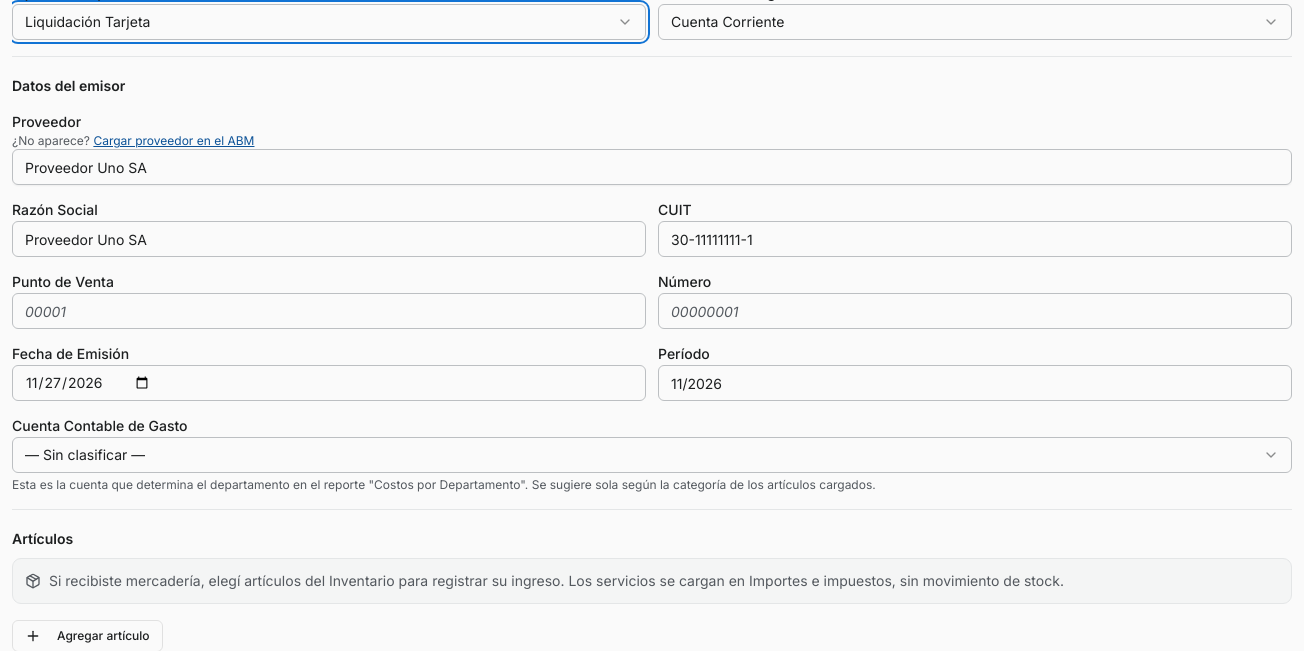
InvoiceDialog — unifiedLayout › la retención municipal sufrida en una Liquidación de Tarjeta se envía y suma al total
Earlier steps of the test are not shown.
Later steps or results of the test are not shown.
Type "00000124" into the field with test id "input-numero-comprobante". click: (975, 311)
box: x1=658 y1=293 x2=1292 y2=329
(page scrolled)
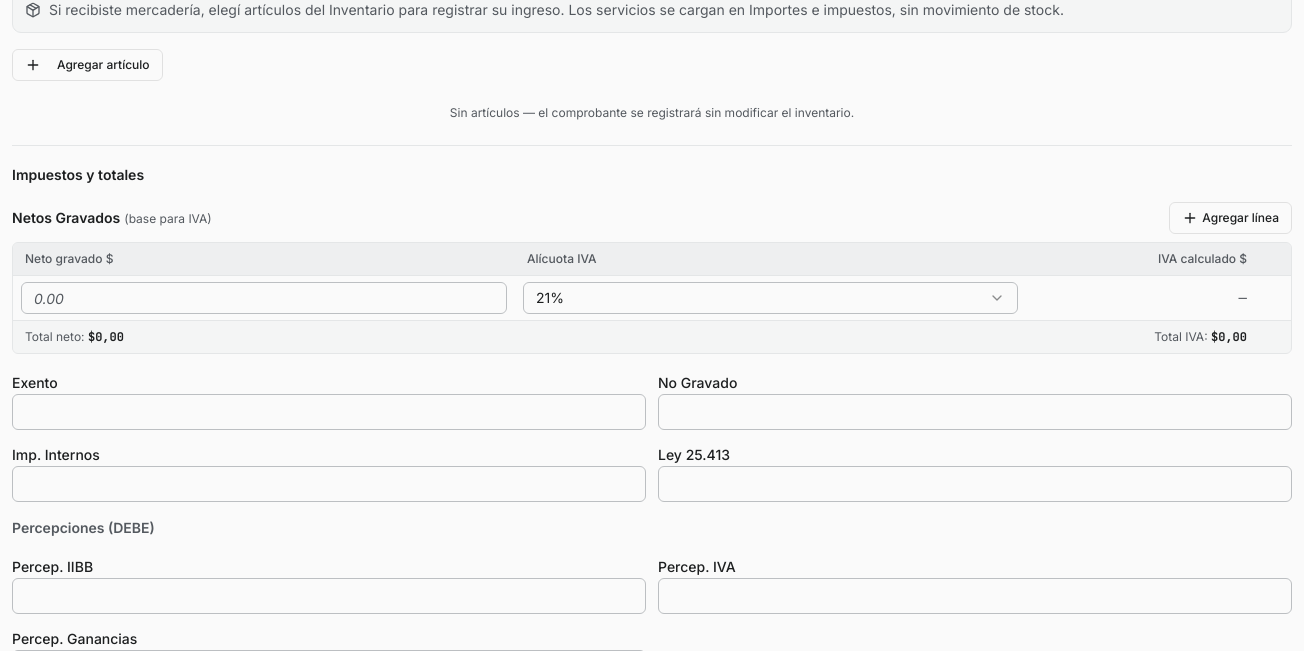
Type "1000" into the number field with test id "input-neto-line-0". click: (264, 298)
box: x1=21 y1=282 x2=507 y2=314
(page scrolled)
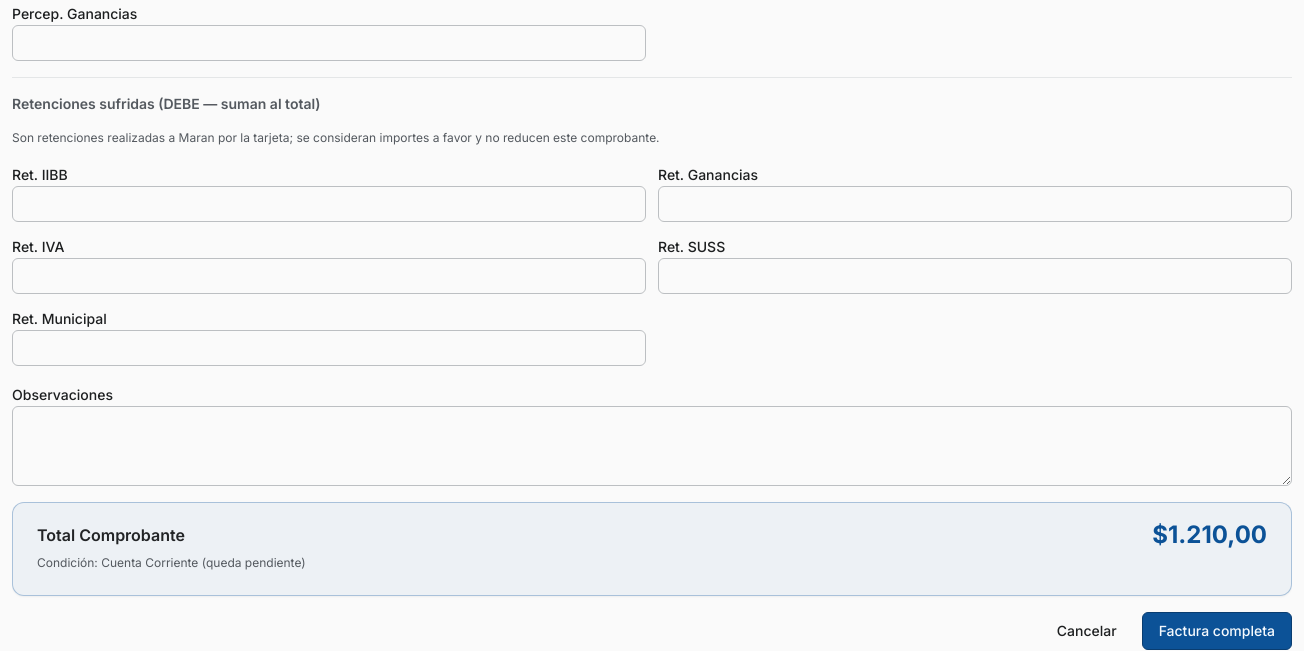
Type "50" into the number field with test id "input-ret-municipal". click: (329, 348)
box: x1=12 y1=330 x2=646 y2=366
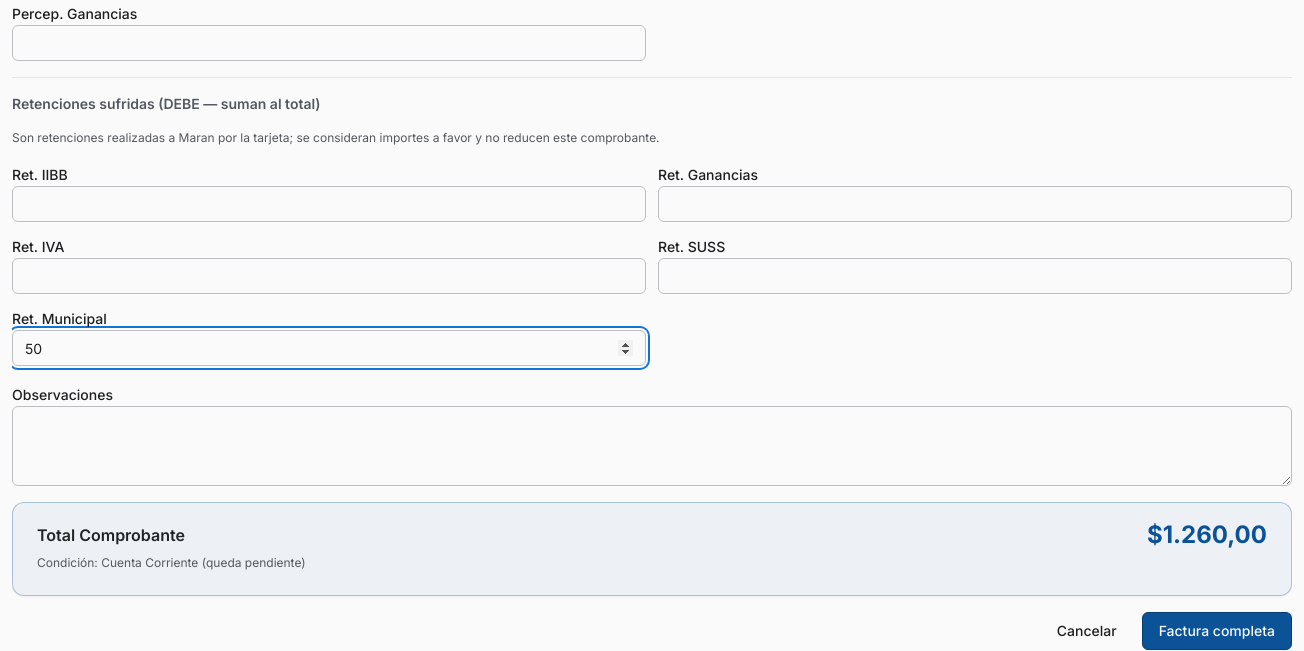
Result: the text "$1.260,00" is shown at x1=1147 y1=519 x2=1267 y2=551
